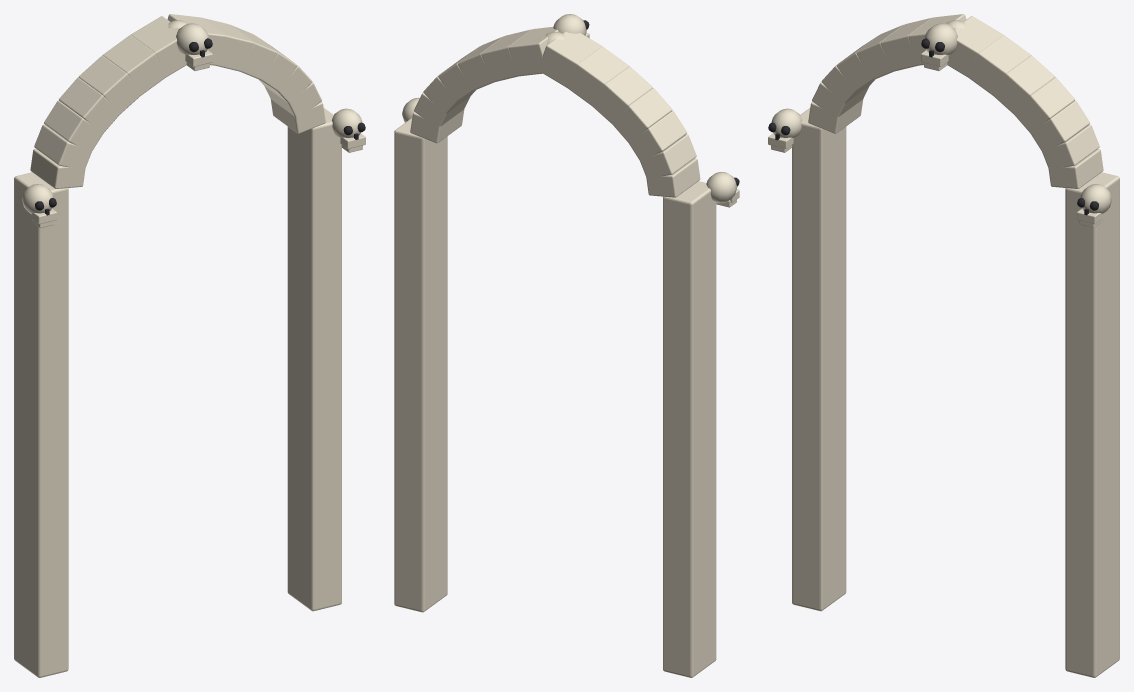
The model's file is door_deco_bone_arch.glb.
3 renders of one model, left to right at view 1: azimuth 30°, elevation 25°; view 2: azimuth 150°, elevation 25°; view 3: azimuth 330°, elevation 25°, orthographic.
Visible parts, largest first — view 1: GD_door_deco_bone_arch__m0, GD_door_deco_bone_arch__m1; view 2: GD_door_deco_bone_arch__m0; view 3: GD_door_deco_bone_arch__m0, GD_door_deco_bone_arch__m1.
Part boxes in pixels (<box>): GD_door_deco_bone_arch__m0: <box>14,14,365,677</box>; GD_door_deco_bone_arch__m1: <box>35,38,365,215</box>; GD_door_deco_bone_arch__m0: <box>394,14,739,677</box>; GD_door_deco_bone_arch__m0: <box>768,14,1119,677</box>; GD_door_deco_bone_arch__m1: <box>768,38,1098,215</box>.
Size of the model in its own units: 1.52 by 2.68 by 0.2993.
